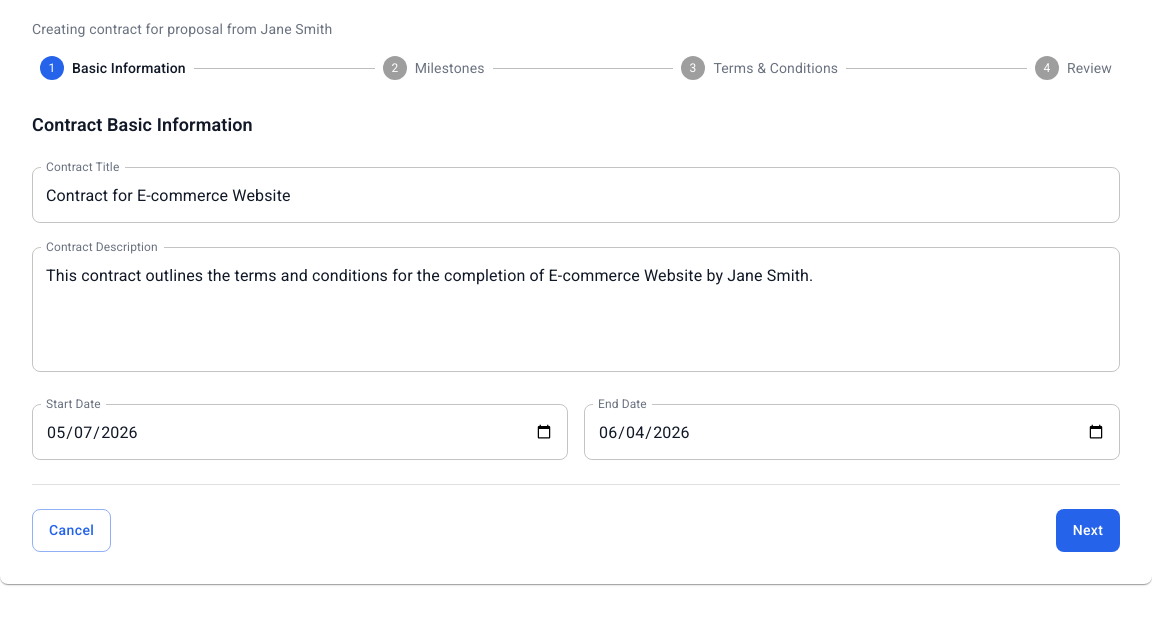
Test case: ContractForm › manages milestones
Navigate to milestones step
Click the button "Next": click(1088, 530) top-left (1056, 509), bottom-right (1120, 552)
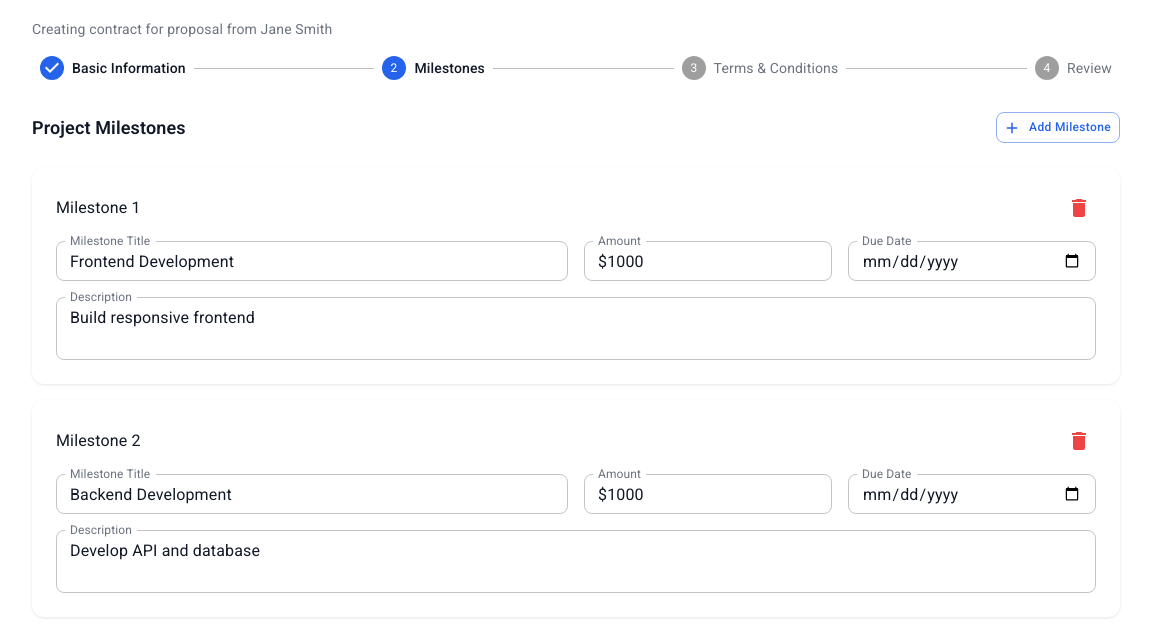
Expected: the 1st field showing "Frontend Development" is shown, top-left (56, 241), bottom-right (568, 281)
Expected: the 2nd field showing "Backend Development" is shown, top-left (56, 474), bottom-right (568, 514)
Add new milestone
Click the button "Add Milestone": click(1058, 128) top-left (996, 112), bottom-right (1120, 143)
(page scrolled)
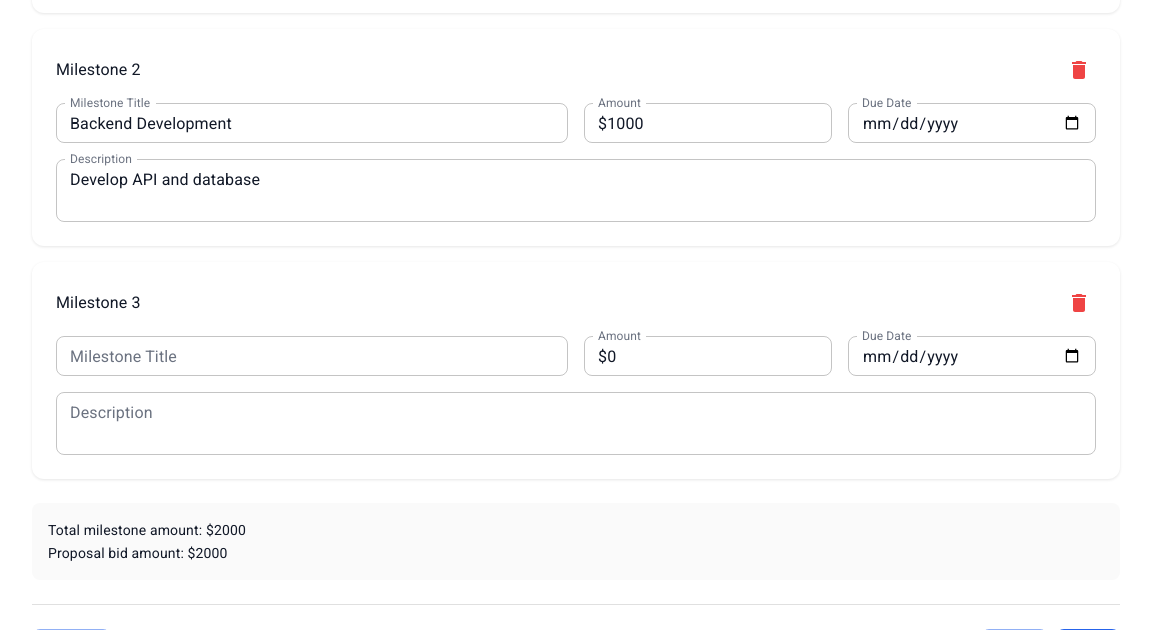
Expected: the heading "Milestone 3" is shown, top-left (56, 289), bottom-right (141, 317)
